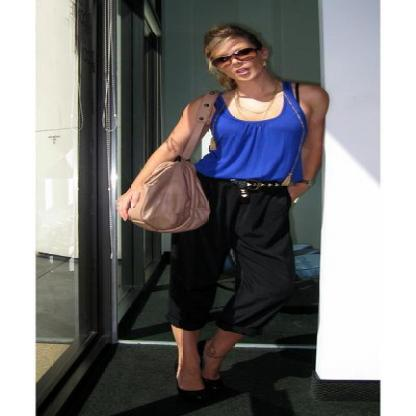bag: (117, 158, 209, 234)
pants: (162, 191, 304, 333)
shirt: (194, 79, 307, 185)
shoe: (174, 378, 231, 404)
sunglass: (210, 56, 231, 66)
